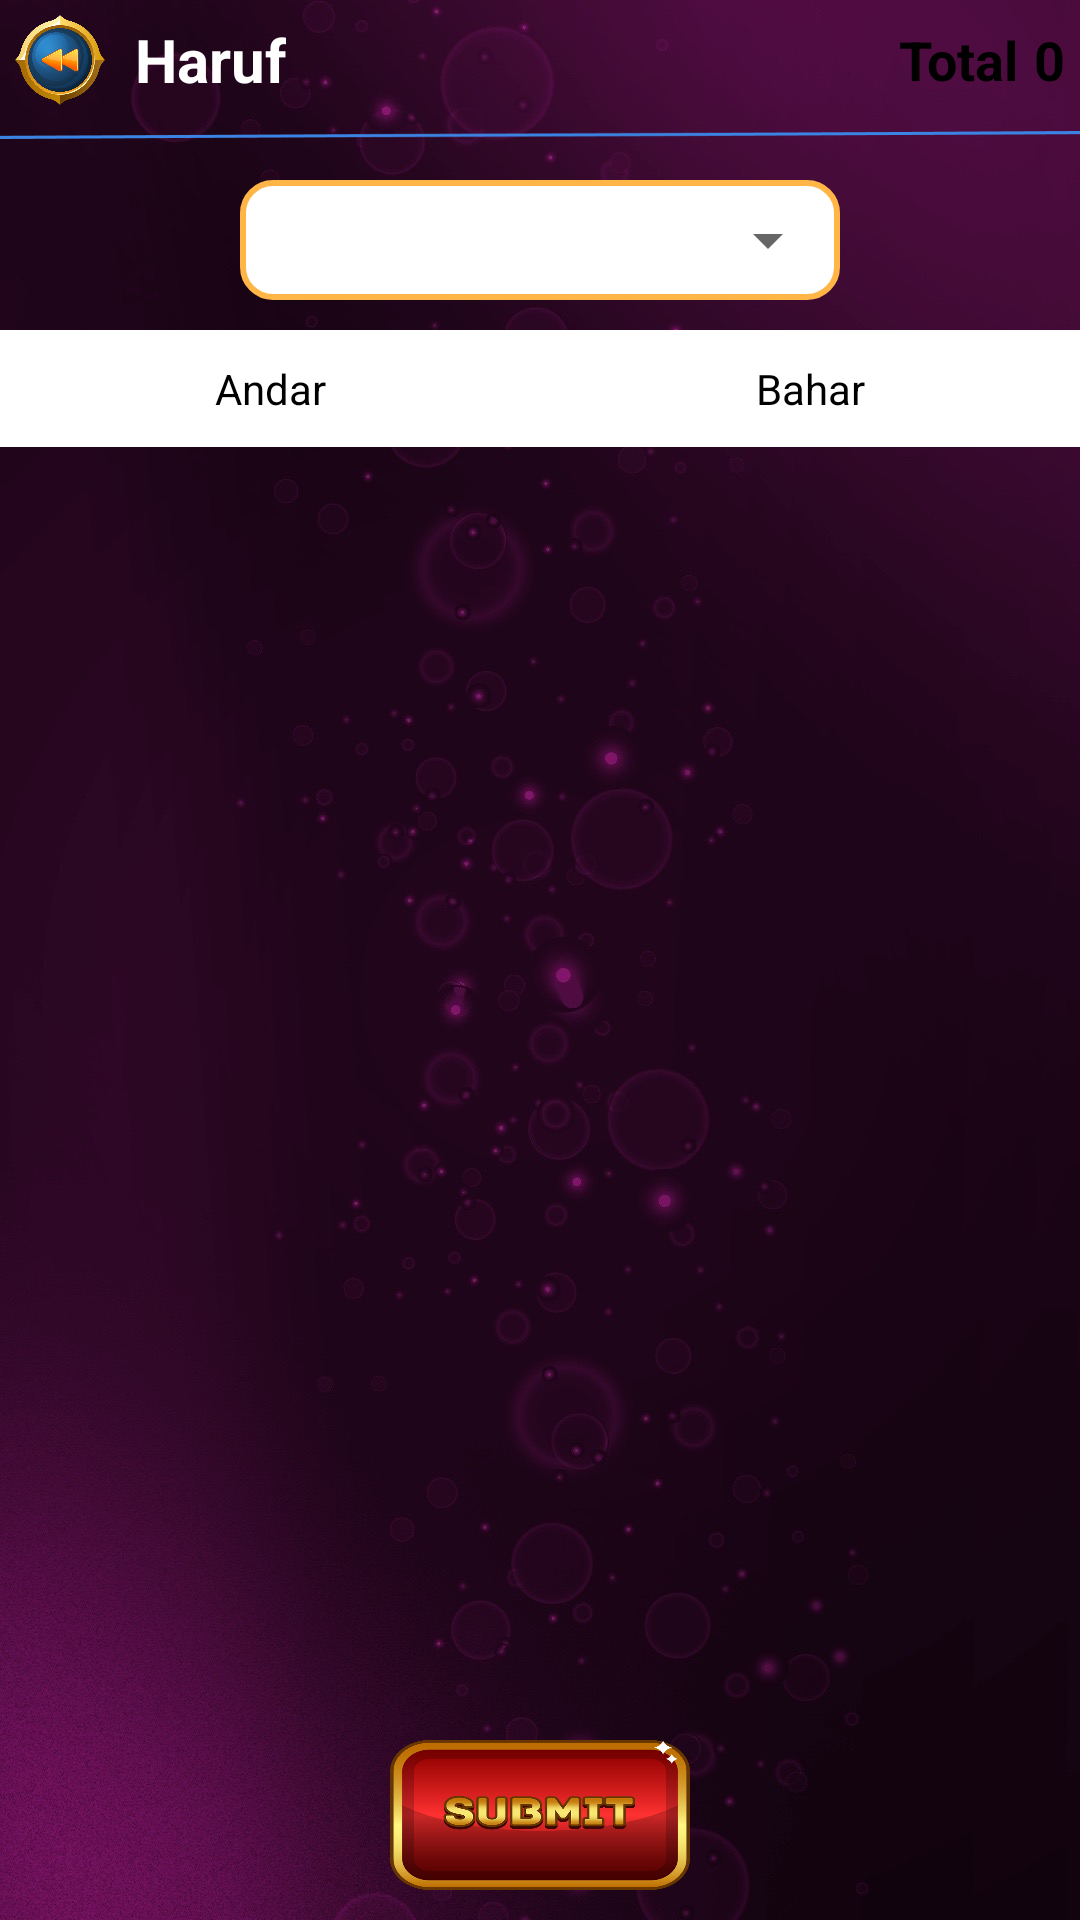

Named icons in this screenshot (1080px x 1920px) and their centers, (x=x, y=y):
changebackbtn: (x=60, y=60)
